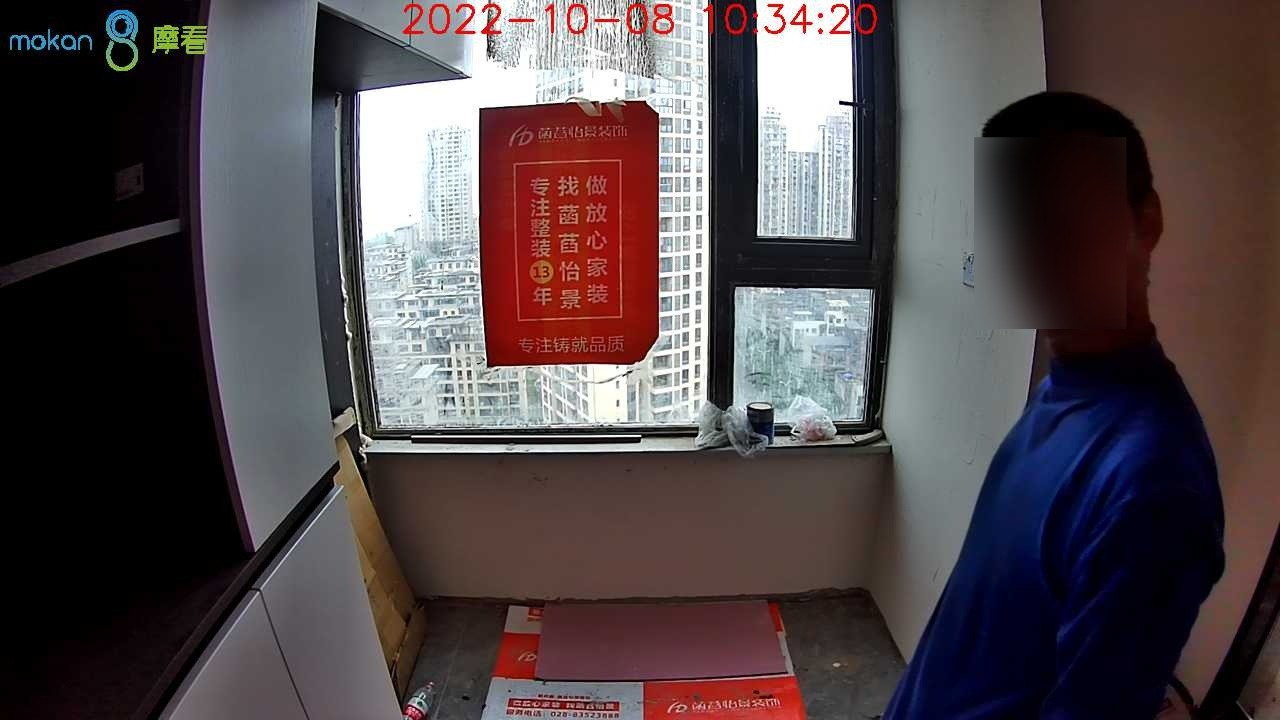people: (887, 94, 1230, 720)
window: (325, 1, 878, 432)
